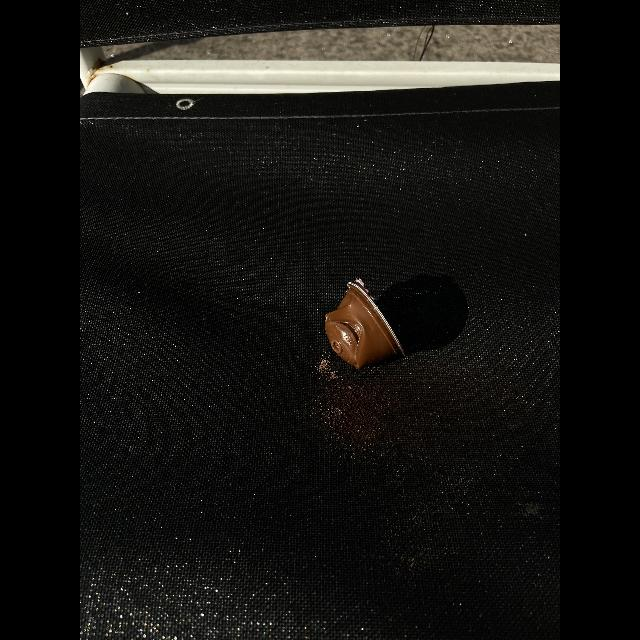damaged_capsule: (318, 272, 412, 373)
